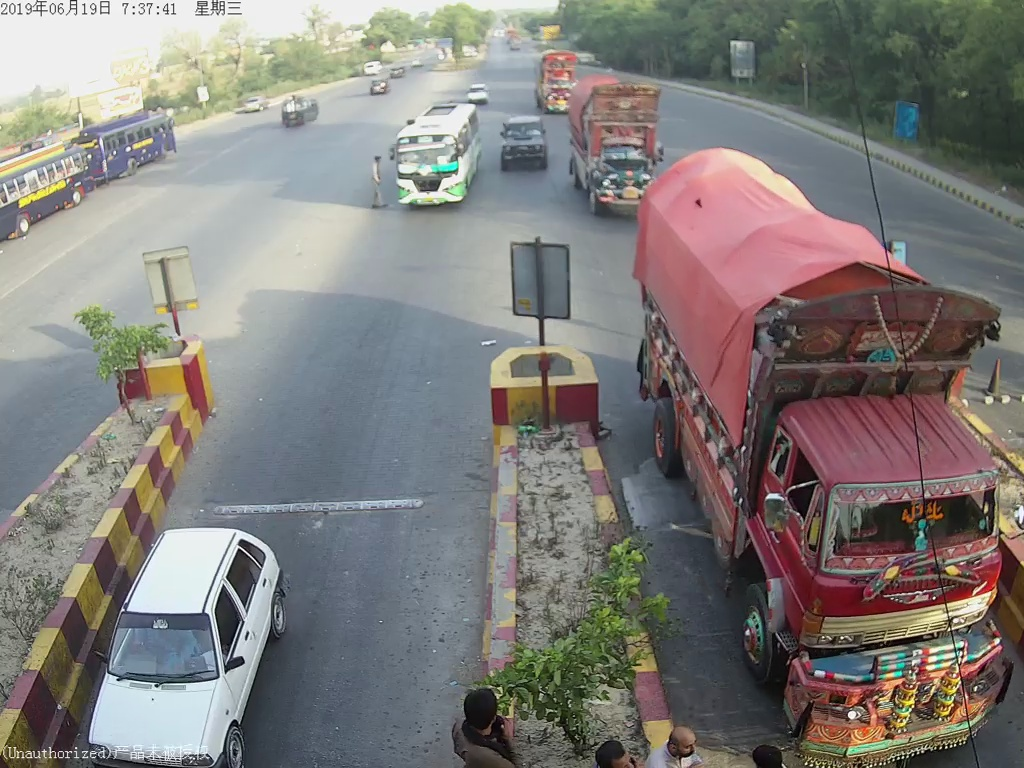Cat-1: (88, 526, 290, 761), (500, 113, 550, 174)
Cat-3: (390, 96, 481, 208)
Cat-4: (648, 176, 1015, 751), (566, 75, 667, 216), (531, 51, 578, 112)
